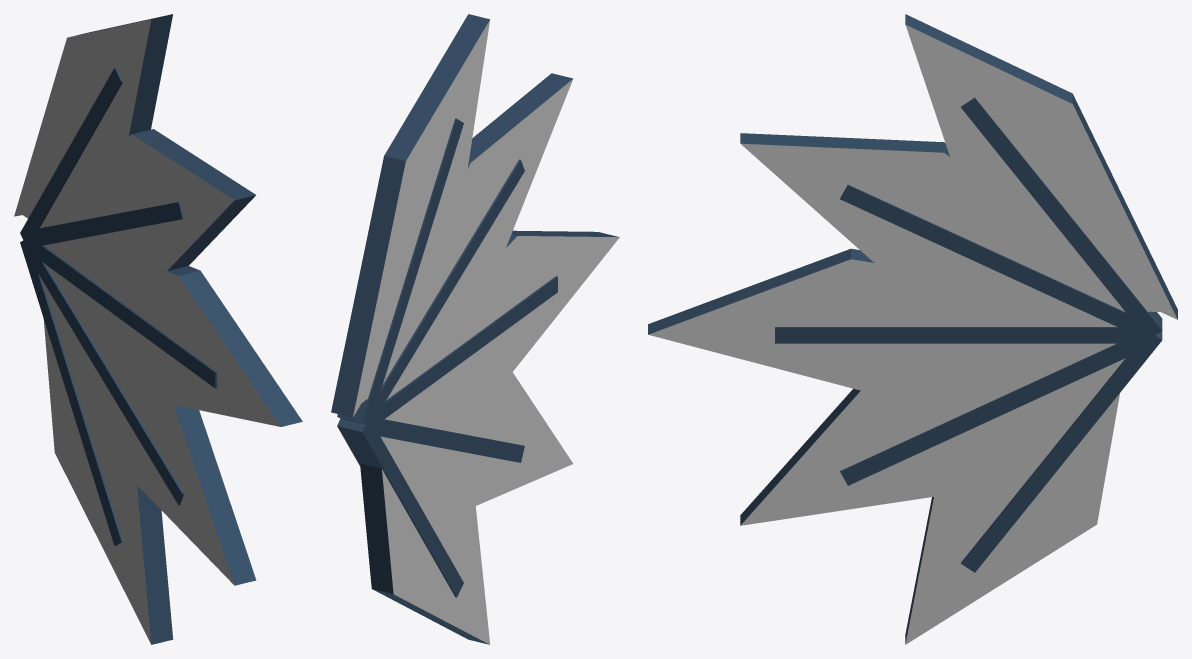
File: SM_AuraLotusFan.obj
3 views of the same model, side by side, from view 1: azimuth 30°, elevation 25°; view 2: azimuth 150°, elevation 25°; view 3: azimuth 270°, elevation 25° (orthographic).
Visible parts, largest first — view 1: SM_AuraLotusFan; view 2: SM_AuraLotusFan; view 3: SM_AuraLotusFan.
Part boxes in pixels (x1,y1,x2,y2): SM_AuraLotusFan: (14,14,302,644); SM_AuraLotusFan: (331,14,619,644); SM_AuraLotusFan: (648,14,1177,644).
Bounding box in the file's own units: 4.2 × 98.52 × 76.23.
